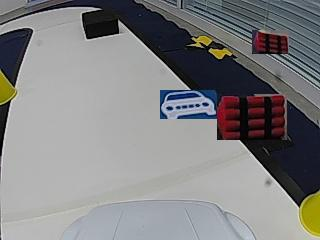block: (80, 9, 119, 39)
cone: (299, 188, 319, 235), (0, 69, 17, 106)
